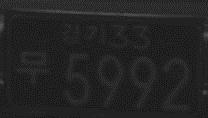2: (161, 54, 192, 111)
3: (131, 22, 152, 51), (109, 21, 128, 50)
5: (63, 51, 91, 106)
9: (95, 52, 124, 107), (128, 55, 157, 110)
경기_O: (60, 21, 107, 49)
무: (16, 48, 50, 89)
